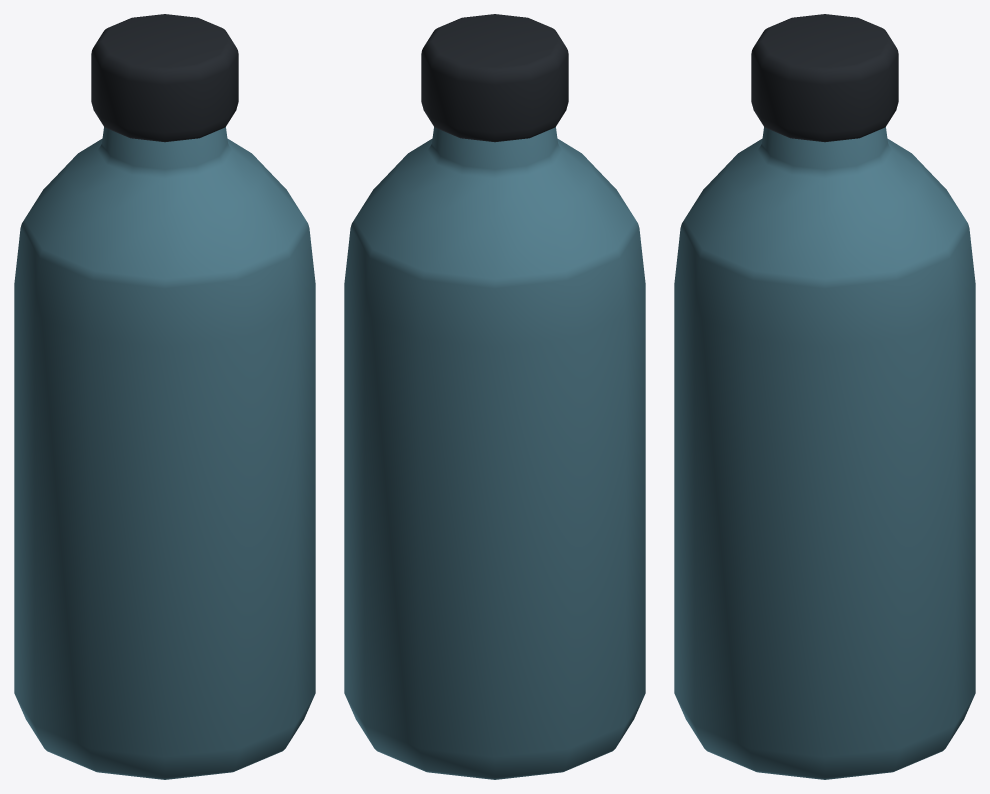
The model's file is Bottle_Tequila.fbx.
The picture shows the model from 3 angles, left to right: view 1: azimuth 30°, elevation 25°; view 2: azimuth 150°, elevation 25°; view 3: azimuth 270°, elevation 25°; orthographic projection.
Visible parts, largest first — view 1: Tequila_Glass, Tequila_Cap; view 2: Tequila_Glass, Tequila_Cap; view 3: Tequila_Glass, Tequila_Cap.
Part boxes in pixels (x1,y1,x2,y2): Tequila_Glass: (14, 127, 315, 779); Tequila_Cap: (91, 14, 238, 142); Tequila_Glass: (344, 127, 645, 779); Tequila_Cap: (421, 14, 568, 142); Tequila_Glass: (674, 127, 975, 779); Tequila_Cap: (751, 14, 898, 142).
Bounding box in the file's own units: 0.09 × 0.225 × 0.09.
